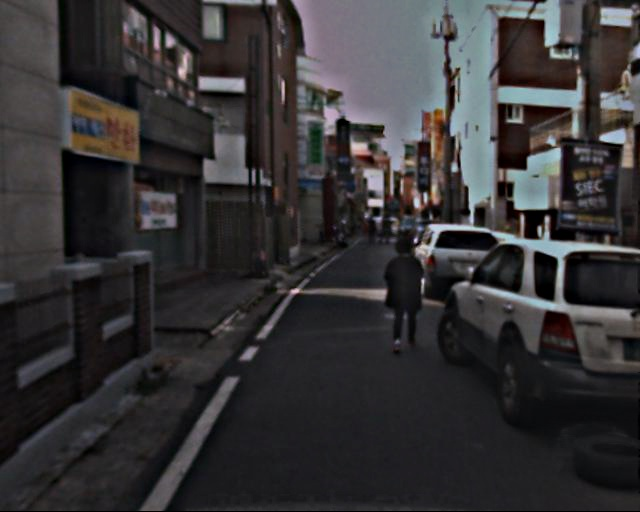person: (381, 238, 429, 355), (363, 210, 393, 245)
